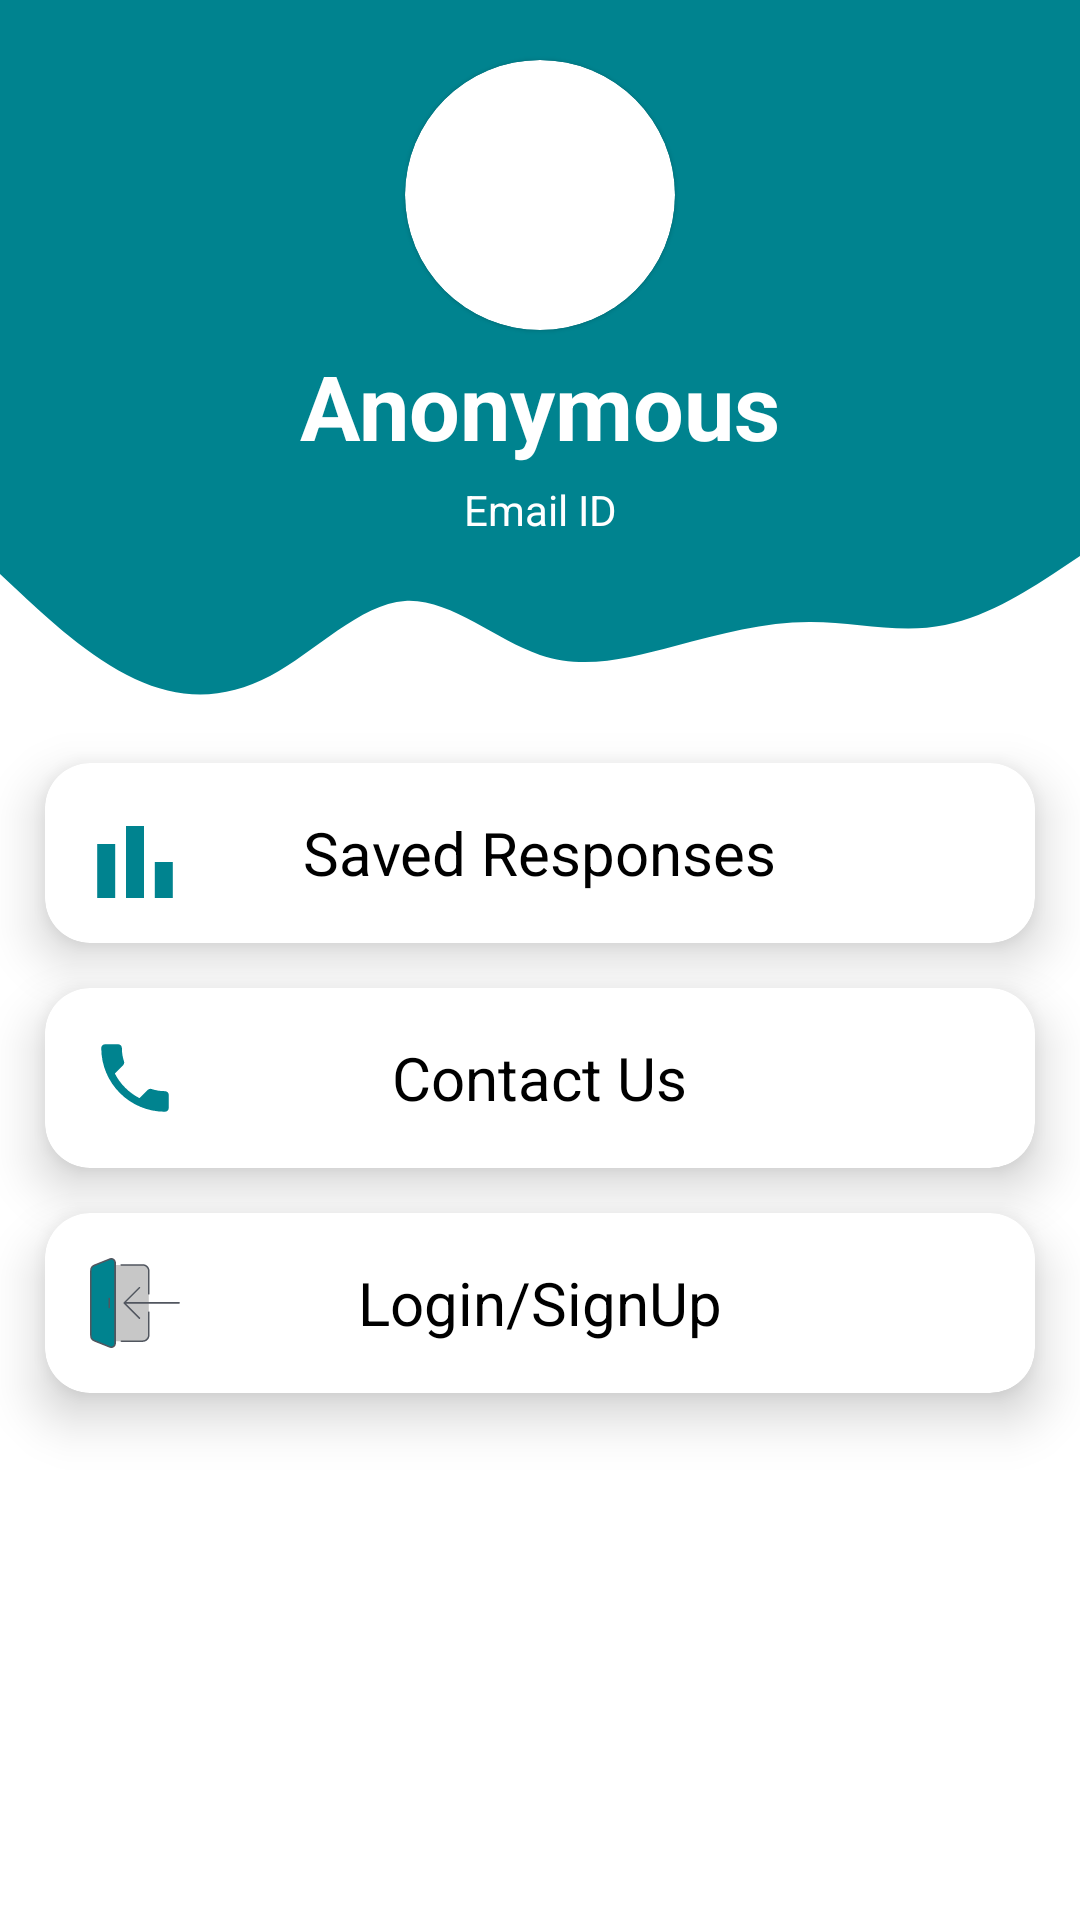

Named icons in this screenshot (1080 x 1920) and their centers, point (x, y):
bar: point (135, 862)
login: point (135, 1303)
phone: point (135, 1078)
